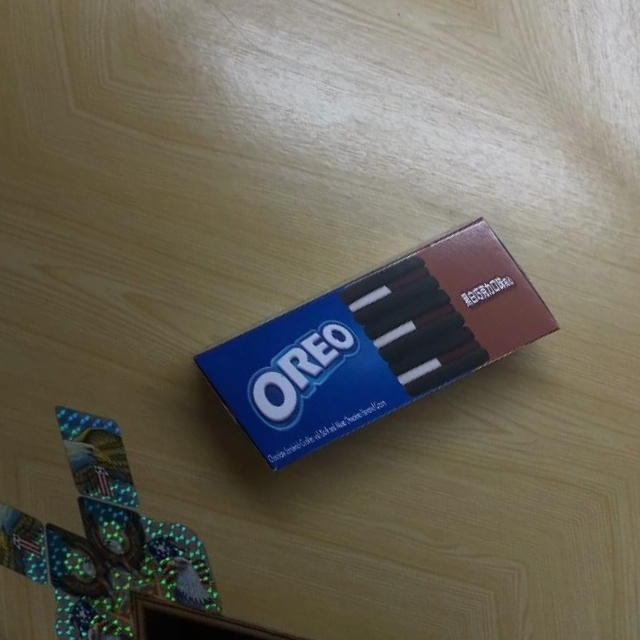Oreo: (178, 149, 574, 532)
